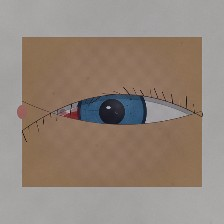hemorrhage_spot: (51, 93, 120, 149)
